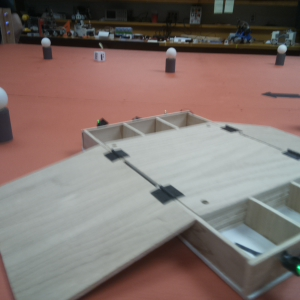blockF: (94, 51, 105, 61)
corner: (1, 9, 15, 45)
obstacle: (165, 46, 179, 73), (41, 38, 54, 59), (275, 43, 286, 65)
slope: (2, 142, 199, 300)
start: (261, 86, 300, 100)
